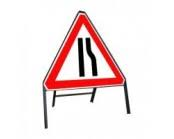Narrow_road: (41, 9, 128, 88)
